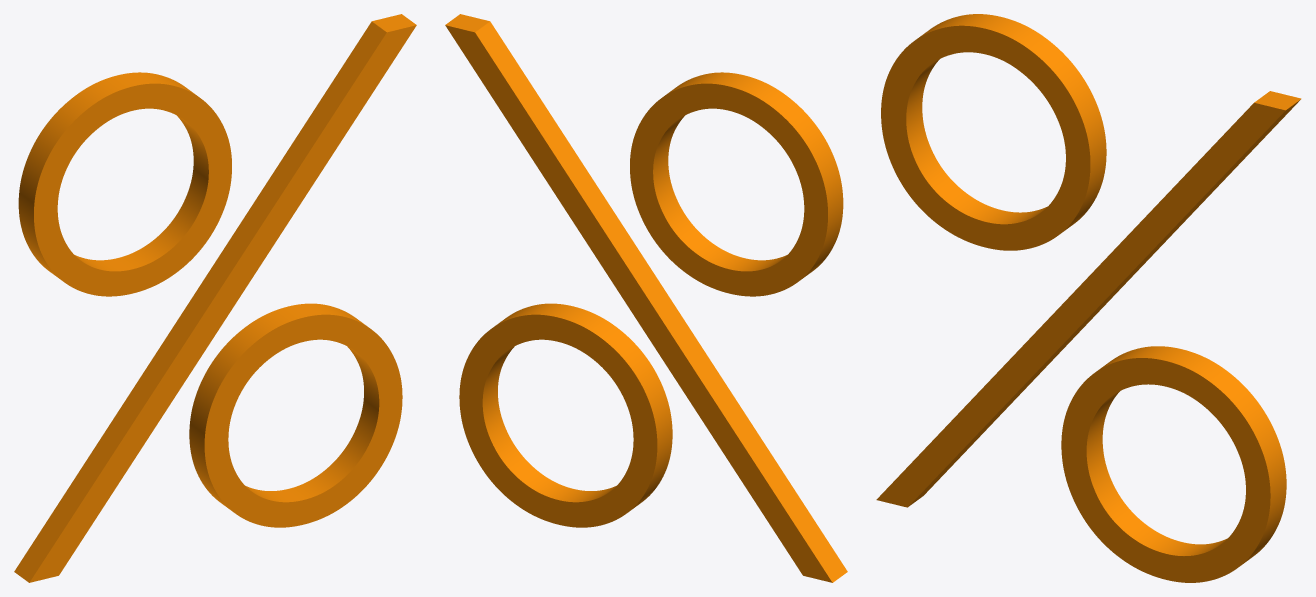
File: Interest.FBX
The picture shows the model from 3 angles, left to right: view 1: azimuth 30°, elevation 25°; view 2: azimuth 150°, elevation 25°; view 3: azimuth 330°, elevation 25°; orthographic projection. The views are drawn at different scales.
Parts seen in each view (by area): view 1: Interest; view 2: Interest; view 3: Interest.
Part boxes in pixels (x1,y1,x2,y2): Interest: [14, 14, 416, 582]; Interest: [445, 14, 847, 582]; Interest: [876, 14, 1301, 582].
Size of the model in its own units: 73.59 by 87.06 by 5.
